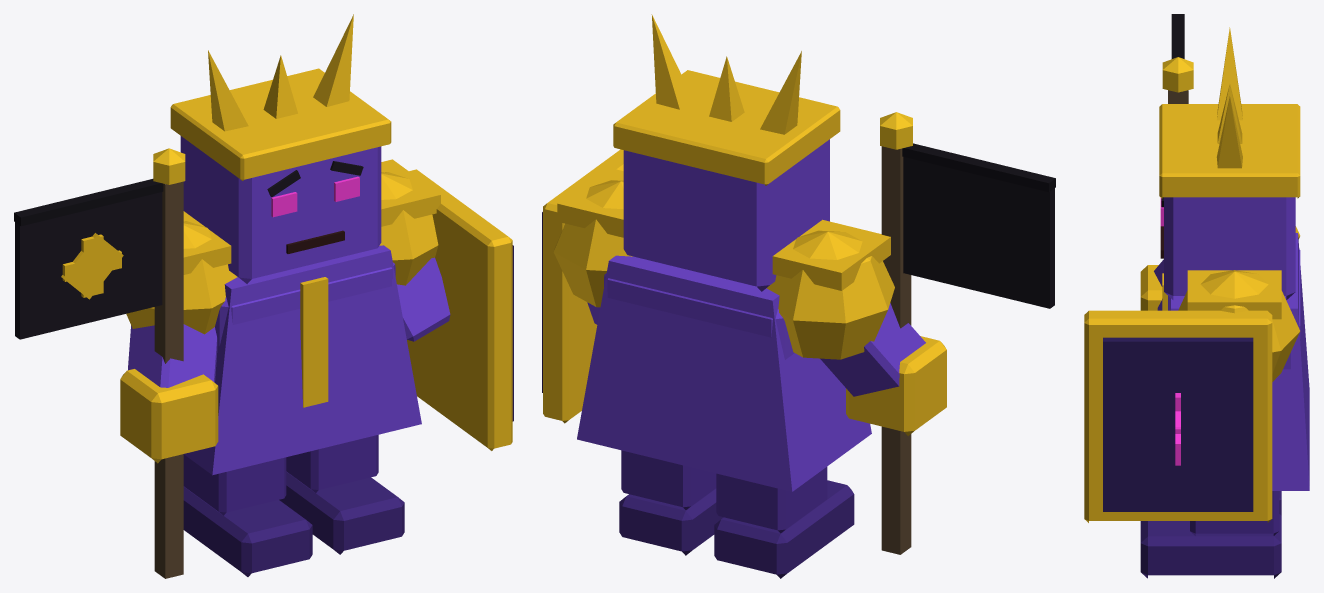
File: r16_mini_void_herald.glb
3 views of the same model, side by side, from view 1: azimuth 30°, elevation 25°; view 2: azimuth 150°, elevation 25°; view 3: azimuth 270°, elevation 25° (orthographic). The views are drawn at different scales.
Parts seen in each view (by area): view 1: r16_mini_void_herald_mesh; view 2: r16_mini_void_herald_mesh; view 3: r16_mini_void_herald_mesh.
Boxes of the visible parts, x1,y1,x2,y2 form: r16_mini_void_herald_mesh: (14,14,513,578); r16_mini_void_herald_mesh: (542,14,1055,578); r16_mini_void_herald_mesh: (1084,14,1309,578).
Bounding box in the file's own units: 4.75 × 4.6 × 1.95.
1 material, 1 textured.
